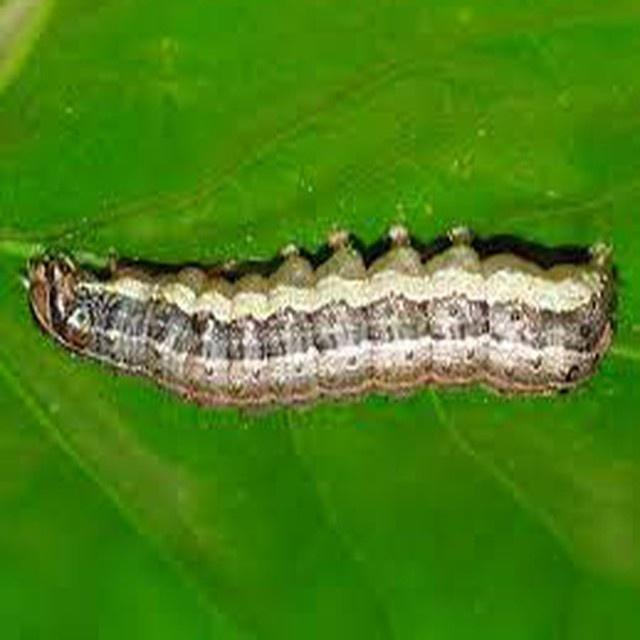Plaga: (33, 235, 616, 403)
